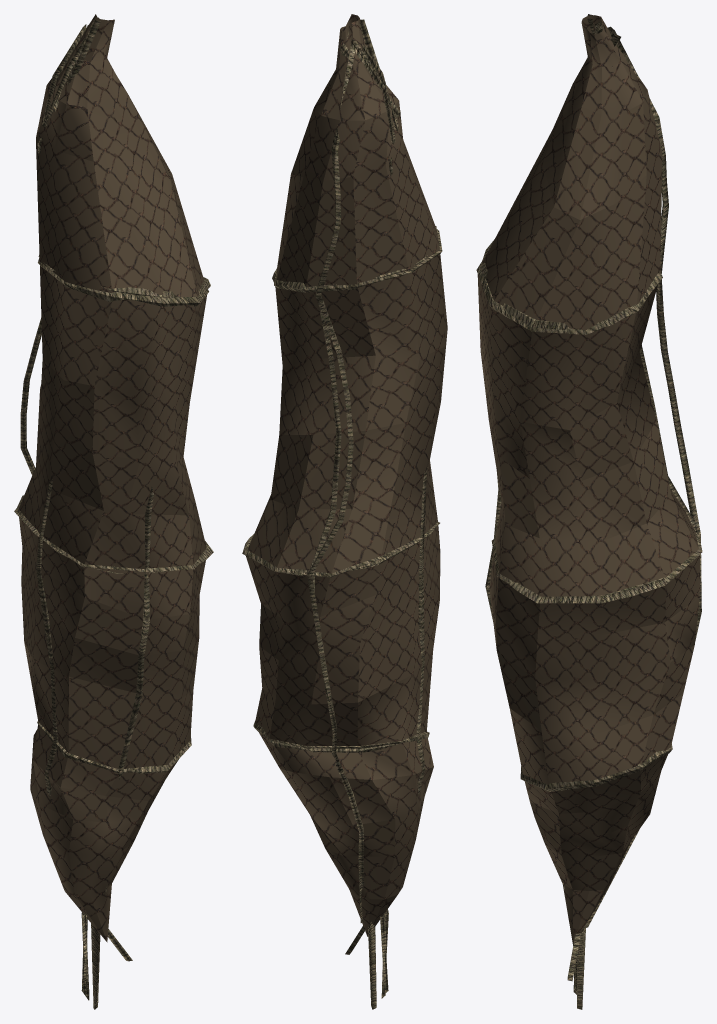
The model's file is fishing_net_hanging_straight.obj.
3 views of the same model, side by side, from view 1: azimuth 30°, elevation 25°; view 2: azimuth 150°, elevation 25°; view 3: azimuth 270°, elevation 25° (orthographic).
Parts seen in each view (by area): view 1: fishing_net_hanging_straight; view 2: fishing_net_hanging_straight; view 3: fishing_net_hanging_straight.
Boxes of the visible parts, box(x1,y1,x2,y2) form: fishing_net_hanging_straight: box(14, 14, 213, 1009); fishing_net_hanging_straight: box(242, 14, 447, 1009); fishing_net_hanging_straight: box(476, 14, 702, 1009).
Size of the model in its own units: 40.67 by 239 by 49.07.
